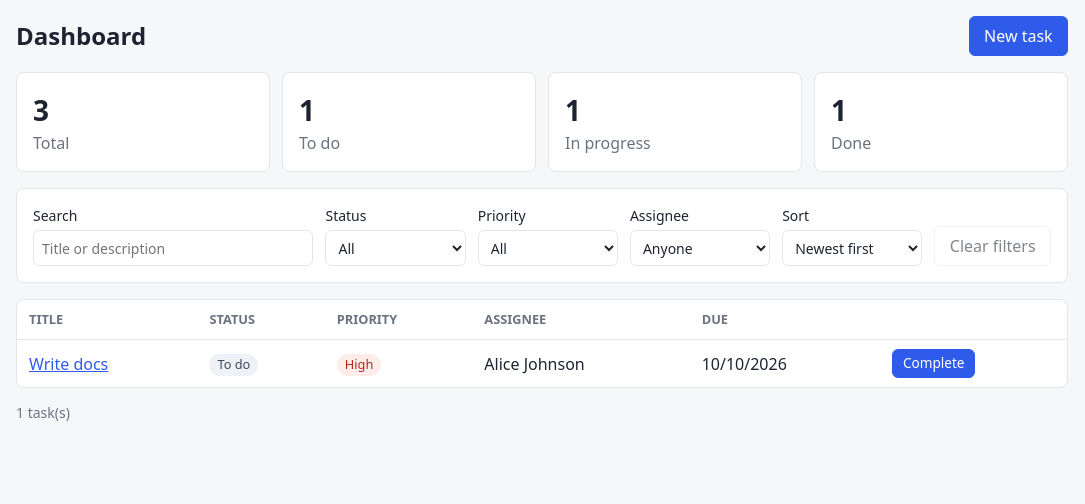
Test: DashboardPage › shows the error when completing a task fails
Expected: the link "Write docs" is shown, [29,352,108,374]
Step 1. Click the button with aria-label "Complete Write docs" → (934, 364), box [892,349,975,378]
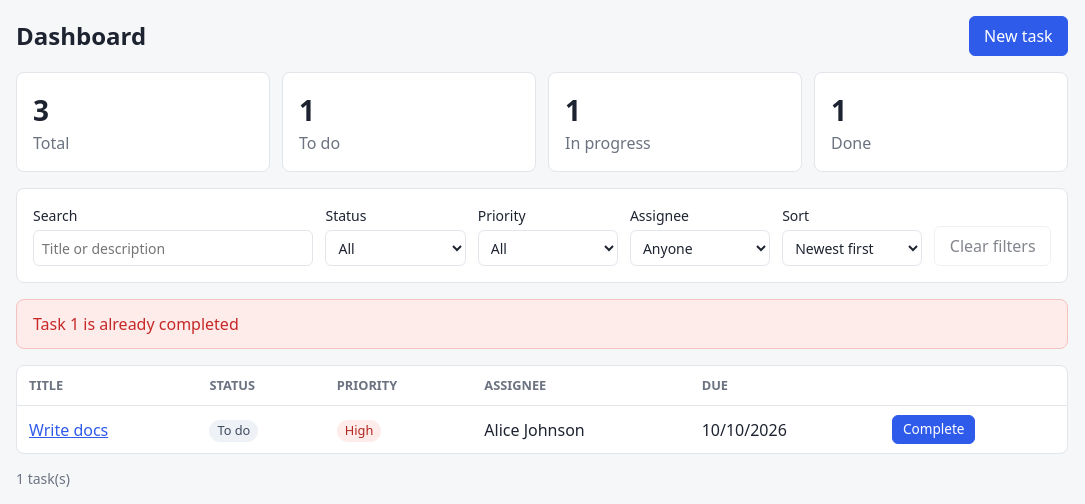
Now the text "Task 1 is already completed" is shown, box [33,312,239,336]
